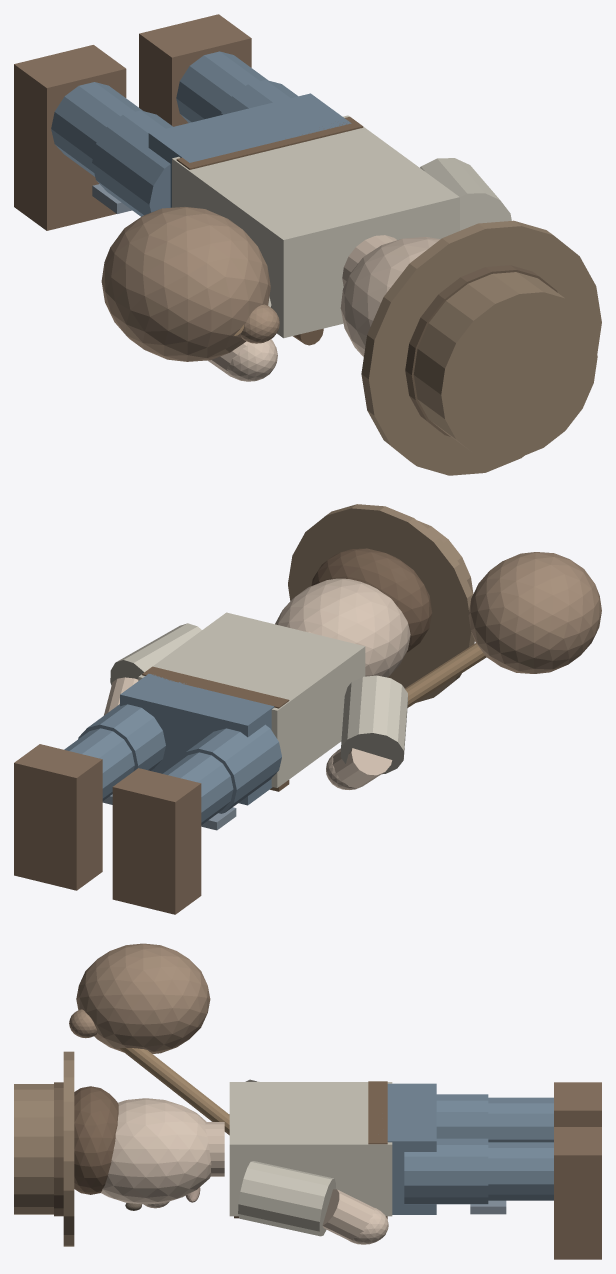
The model's file is George_idle.glb.
3 renders of one model, top to bottom at view 1: azimuth 30°, elevation 25°; view 2: azimuth 150°, elevation 25°; view 3: azimuth 270°, elevation 25°, orthographic. The views are drawn at different scales.
Visible parts, largest first — view 1: worn_cream_work_shirt, hat_crown, tied_cloth_bindle, weathered_felt_hat_brim, work_boot_-1, faded_blue_denim_waist, work_boot_1, denim_thigh_-1, fair_skin_face, denim_calf_-1, denim_calf_1, rolled_shirt_sleeve_1 (+6 smaller); view 2: worn_cream_work_shirt, tied_cloth_bindle, weathered_felt_hat_brim, work_boot_-1, work_boot_1, fair_skin_face, faded_blue_denim_waist, rolled_shirt_sleeve_-1, short_brown_hair, denim_thigh_-1, denim_thigh_1, denim_calf_-1 (+5 smaller); view 3: worn_cream_work_shirt, tied_cloth_bindle, fair_skin_face, work_boot_1, rolled_shirt_sleeve_1, denim_thigh_1, hat_crown, faded_blue_denim_waist, short_brown_hair, denim_calf_1, denim_calf_-1, denim_thigh_-1 (+10 smaller).
Boxes of the visible parts, x1,y1,x2,y2 form: worn_cream_work_shirt: (172,115,459,338); hat_crown: (413,272,597,459); tied_cloth_bindle: (101,207,270,361); weathered_felt_hat_brim: (361,220,601,475); work_boot_-1: (14,45,126,230); faded_blue_denim_waist: (148,93,351,207); work_boot_1: (139,14,251,126); denim_thigh_-1: (92,110,172,216); fair_skin_face: (340,237,440,356); denim_calf_-1: (51,82,142,176); denim_calf_1: (176,51,267,122); rolled_shirt_sleeve_1: (420,158,511,230); worn_cream_work_shirt: (138,612,365,787); tied_cloth_bindle: (468,552,601,673); weathered_felt_hat_brim: (288,504,474,702); work_boot_-1: (112,768,201,914); work_boot_1: (14,744,102,890); fair_skin_face: (275,578,410,677); faded_blue_denim_waist: (120,673,274,805); rolled_shirt_sleeve_-1: (340,675,407,774); short_brown_hair: (311,548,432,652); denim_thigh_-1: (177,724,281,813); denim_thigh_1: (78,704,165,771); denim_calf_-1: (163,752,233,824); worn_cream_work_shirt: (229,1082,392,1216); tied_cloth_bindle: (76,943,210,1053); fair_skin_face: (101,1098,211,1204); work_boot_1: (554,1127,601,1259); rolled_shirt_sleeve_1: (238,1161,335,1236); denim_thigh_1: (404,1138,488,1204); hat_crown: (14,1084,53,1214); faded_blue_denim_waist: (387,1083,436,1214); short_brown_hair: (74,1086,118,1194); denim_calf_1: (488,1142,553,1200); denim_calf_-1: (488,1097,553,1142); denim_thigh_-1: (436,1094,488,1138).
Bounding box in the file's own units: 1.72 × 0.93 × 2.46.
